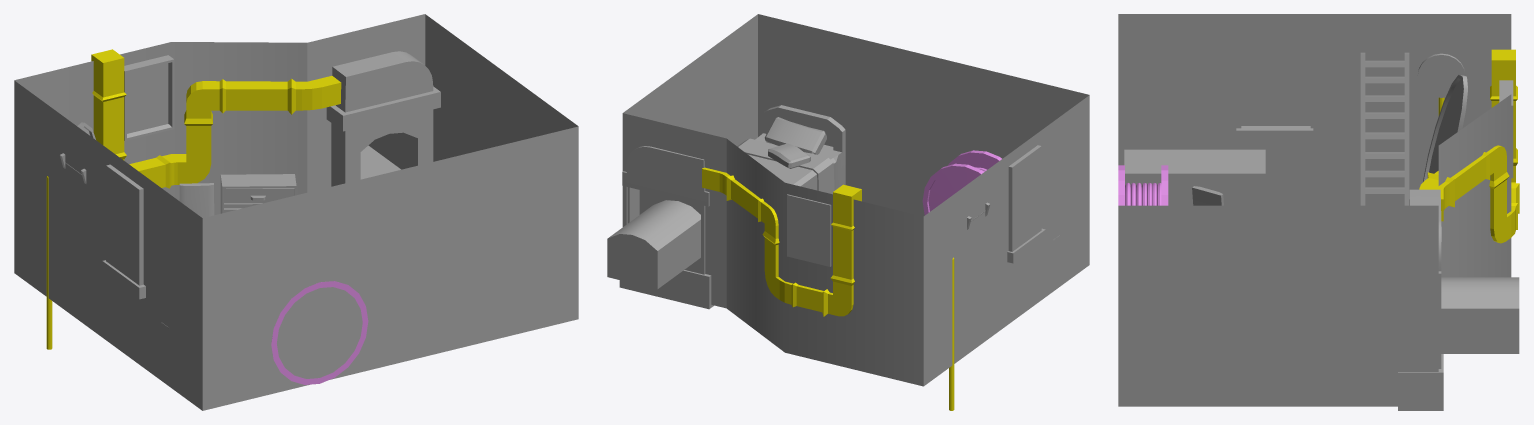
The model's file is SceneE2.fbx.
The picture shows the model from 3 angles, left to right: view 1: azimuth 30°, elevation 25°; view 2: azimuth 150°, elevation 25°; view 3: azimuth 270°, elevation 25°; orthographic projection. The views are drawn at different scales.
Visible parts, largest first — view 1: HouseShell, HouseFurnance, CNT_FirePlaceTube, HousePictureFrame, MUL_CableRoll, HouseDresser, Chair5, HouseDresserDrawer, CNT_ArrowSignRod; view 2: HouseShell, HouseFurnance, CNT_FirePlaceTube, HousePictureFrame, pCube678, pCube669, MUL_CableRoll, pCube676, pCube677, CNT_ArrowSignRod; view 3: HouseShell, HouseFurnance, CNT_FirePlaceTube, HouseDesk, Ladders, Mirror, ArrowSign, MUL_CableRoll, Chair4, HousePictureFrame.
Boxes of the visible parts, x1,y1,x2,y2 form: HouseShell: [14, 14, 578, 410]; HouseFurnance: [326, 51, 440, 186]; CNT_FirePlaceTube: [91, 49, 341, 188]; HousePictureFrame: [124, 55, 174, 140]; MUL_CableRoll: [271, 281, 368, 384]; HouseDresser: [220, 174, 296, 213]; Chair5: [179, 183, 214, 217]; HouseDresserDrawer: [224, 188, 294, 203]; CNT_ArrowSignRod: [46, 176, 52, 349]; HouseShell: [622, 14, 1089, 386]; HouseFurnance: [607, 146, 713, 309]; CNT_FirePlaceTube: [702, 167, 861, 316]; HousePictureFrame: [787, 194, 831, 266]; pCube678: [737, 138, 834, 194]; pCube669: [755, 105, 845, 190]; MUL_CableRoll: [922, 150, 1001, 215]; pCube676: [764, 117, 826, 154]; pCube677: [768, 143, 810, 168]; CNT_ArrowSignRod: [949, 257, 954, 410]; HouseShell: [1118, 14, 1511, 406]; HouseFurnance: [1398, 189, 1519, 410]; CNT_FirePlaceTube: [1419, 49, 1519, 243]; HouseDesk: [1124, 149, 1265, 205]; Ladders: [1360, 52, 1409, 205]; Mirror: [1423, 74, 1467, 181]; ArrowSign: [1417, 53, 1465, 97]; MUL_CableRoll: [1118, 165, 1168, 205]; Chair4: [1192, 186, 1223, 205]; HousePictureFrame: [1499, 80, 1513, 178].
Bounding box in the file's own units: 53.19 × 32.95 × 46.16.
